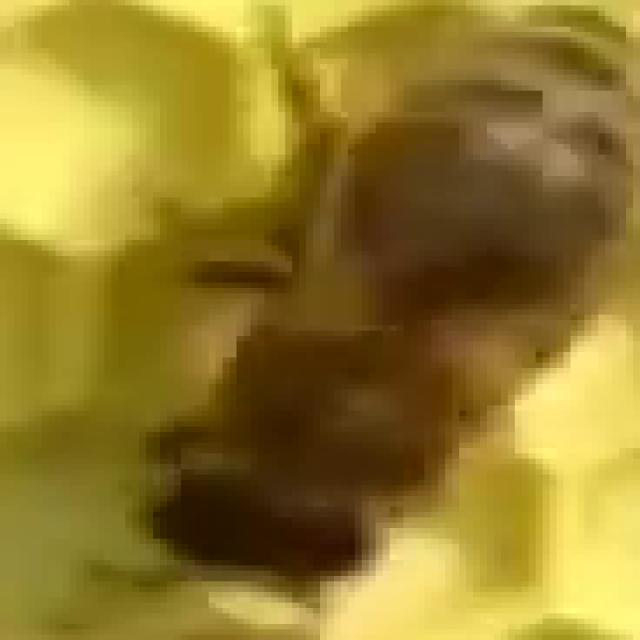honeybee: (150, 0, 640, 640)
